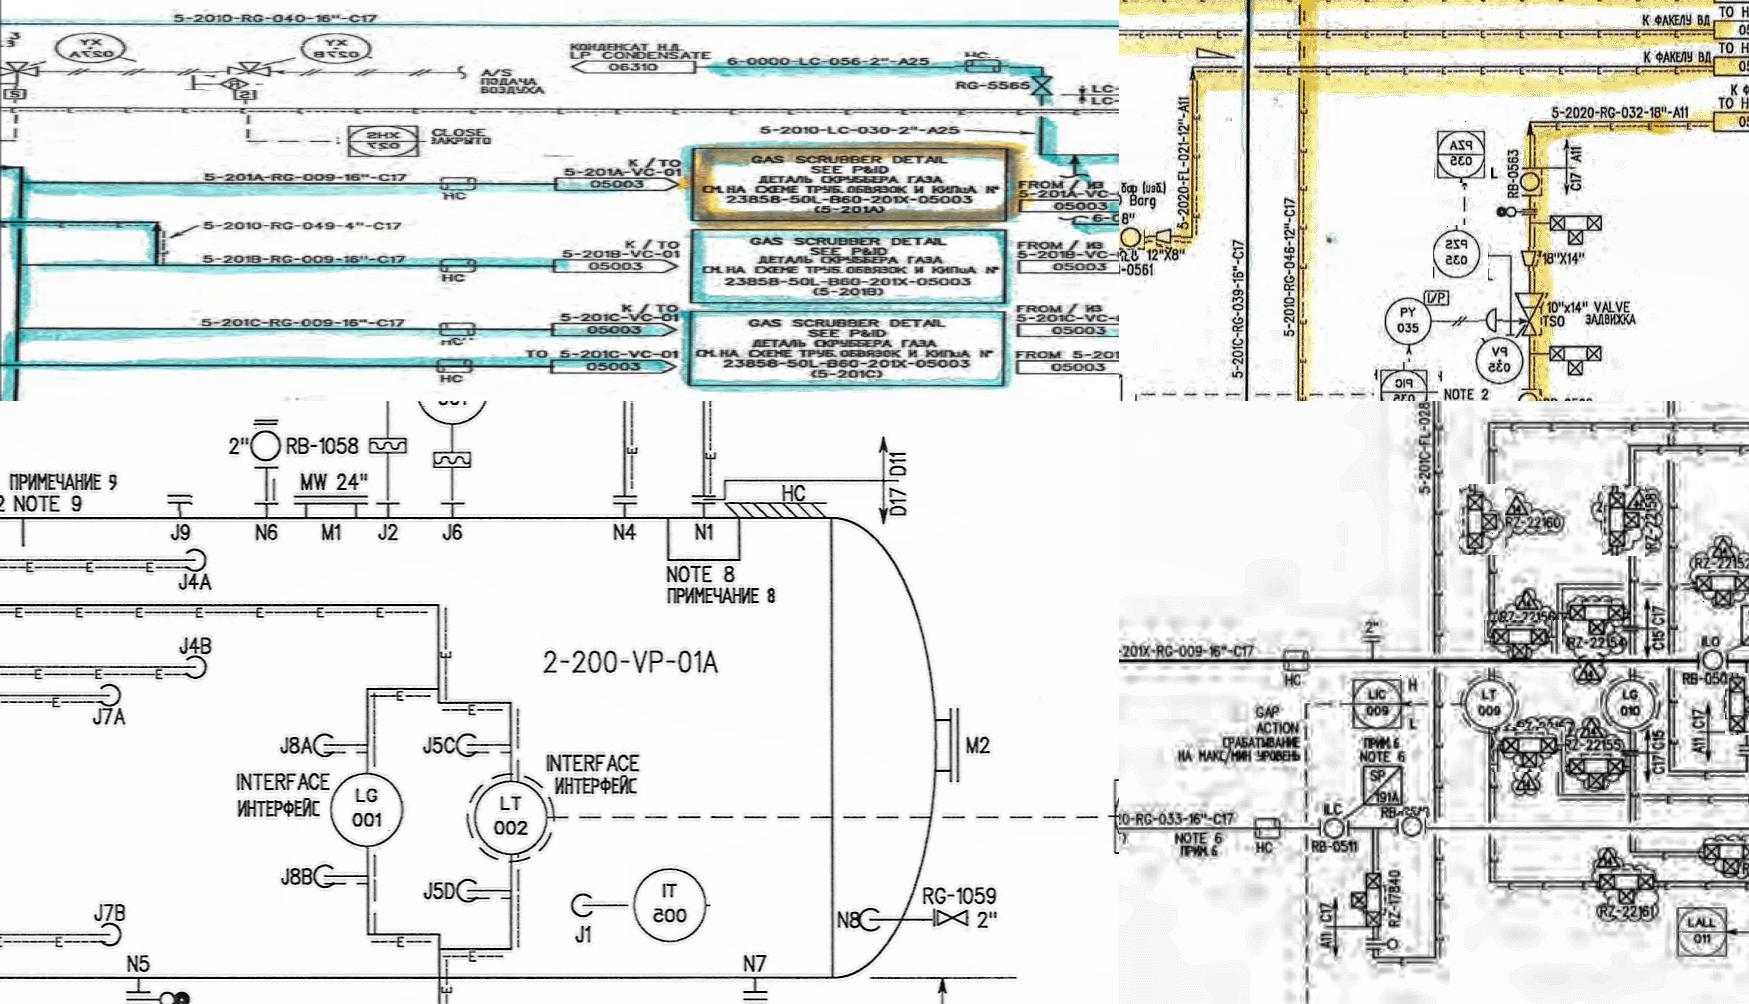2 WAY VALVE: (1484, 620, 1562, 664), (1491, 728, 1565, 773), (1558, 594, 1636, 638), (1460, 484, 1505, 555), (1602, 486, 1644, 557), (1594, 867, 1659, 912), (1350, 868, 1390, 936), (1690, 569, 1749, 614), (1548, 341, 1612, 382), (1547, 209, 1607, 251), (1566, 753, 1628, 794), (1699, 837, 1749, 879), (1726, 673, 1749, 735)
3 WAY GENERAL VALVE: (217, 59, 277, 80), (0, 58, 47, 80)
BLIND SPADE OPEN: (1357, 931, 1399, 956), (1731, 740, 1749, 764)
CONCENTRIC REDUCER: (1150, 226, 1182, 247), (1520, 247, 1541, 271)
CONNECTOR: (175, 544, 215, 575), (92, 677, 129, 710), (567, 889, 598, 925), (856, 902, 887, 938), (179, 650, 209, 683), (452, 729, 482, 763), (454, 874, 485, 904), (91, 924, 127, 949), (311, 859, 339, 890), (309, 729, 335, 761)
DCS ACCESSIBLE: (1671, 901, 1735, 963), (1344, 673, 1409, 731), (1434, 120, 1492, 184), (336, 122, 431, 159), (1375, 361, 1440, 401)
DIAPHRAGM SEAL: (363, 434, 412, 462), (426, 446, 477, 473)
DUPLEX RECEPTACLE: (954, 58, 1008, 77), (435, 175, 487, 195), (435, 319, 480, 340), (435, 256, 483, 275), (1281, 645, 1313, 673), (1252, 815, 1285, 842), (432, 357, 478, 373)
END CAP: (1480, 305, 1504, 335), (1481, 310, 1505, 336)
END FLANGED: (604, 488, 647, 510), (735, 986, 772, 1004), (1357, 628, 1386, 649), (166, 490, 191, 512)
FIELD INSTRUMENT: (461, 771, 557, 865), (628, 865, 710, 944), (330, 773, 407, 849), (1453, 667, 1523, 734), (1594, 675, 1667, 735), (1433, 226, 1488, 283), (46, 34, 136, 65), (1473, 339, 1527, 387), (294, 31, 371, 65), (1385, 293, 1434, 345), (414, 401, 490, 424), (250, 423, 286, 464), (1323, 814, 1353, 847), (1397, 812, 1427, 843), (1700, 646, 1726, 675), (1120, 226, 1145, 256), (1518, 172, 1545, 197), (1516, 392, 1542, 401)
GATE VALVE: (933, 907, 971, 932), (1026, 73, 1057, 98)
HARDWIRED INTERLOCK FIELD: (186, 76, 258, 90)
REVISION TRIANGLE: (1593, 839, 1624, 874), (1515, 766, 1541, 800)
SPECIAL PIPING ITEM: (1355, 761, 1410, 811)
SPECTACLE BLIND OPEN: (118, 984, 195, 1004), (1491, 205, 1550, 223)
SPEED FLOW METER: (229, 84, 262, 107), (5, 86, 31, 103)
